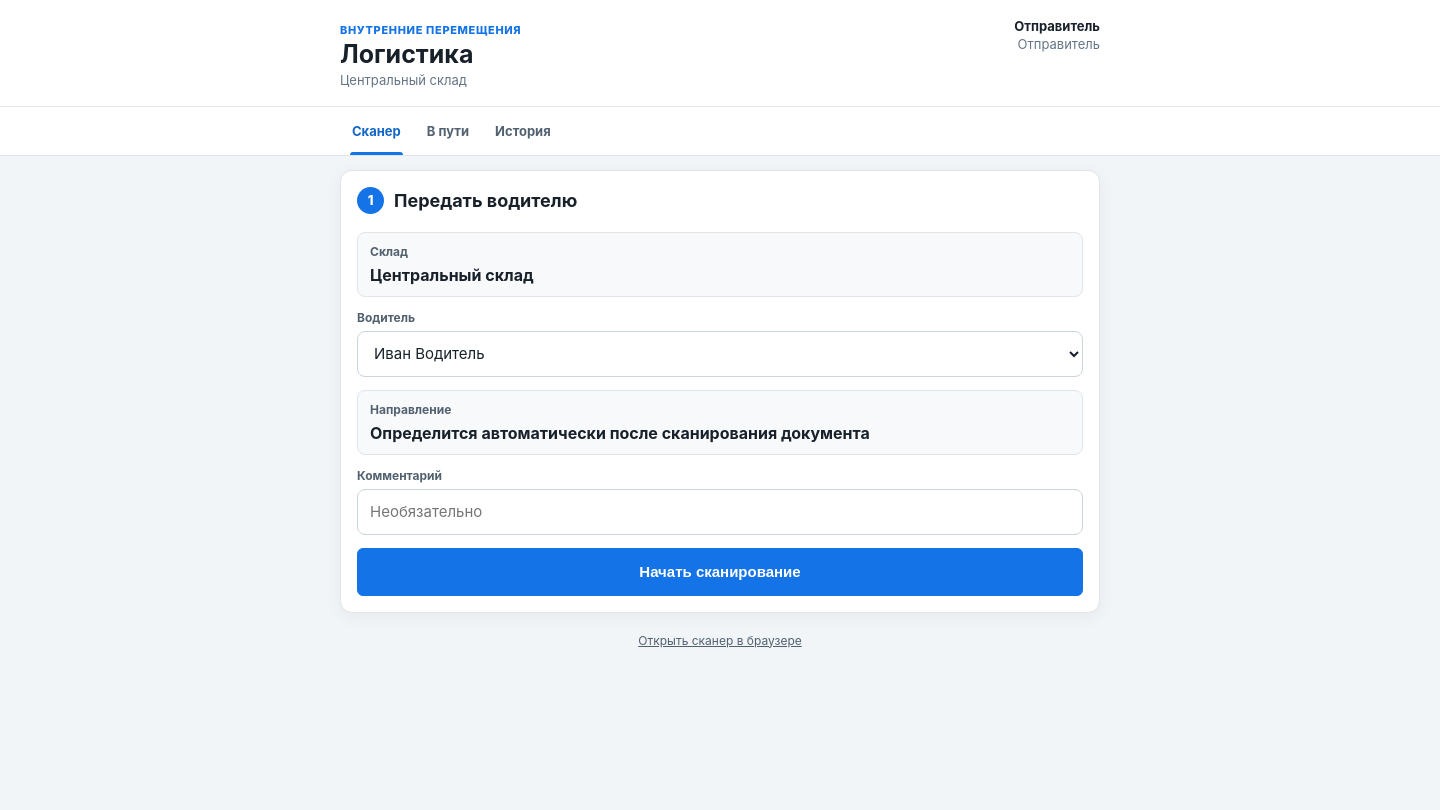
Scenario: LogisticsWorkspace › сохраняет пакет сканов после ошибки следующего кода
Step 1. Click the button "Начать сканирование" → [720, 572], box [357,548,1083,596]
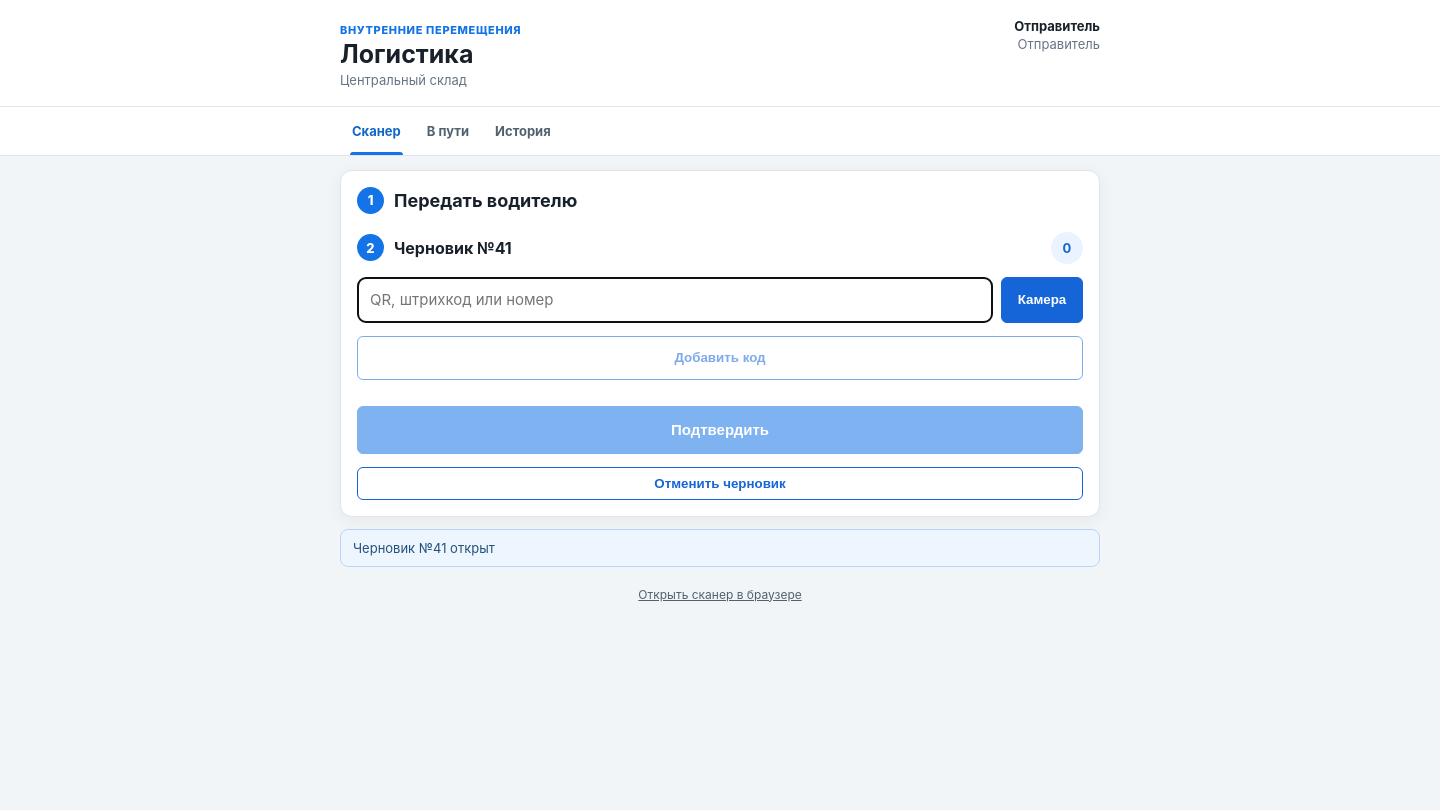
Step 2. Type "MMLOG1|rtu|51|216951" into the field with placeholder "QR, штрихкод или номер" → [675, 300], box [357,277,993,323]
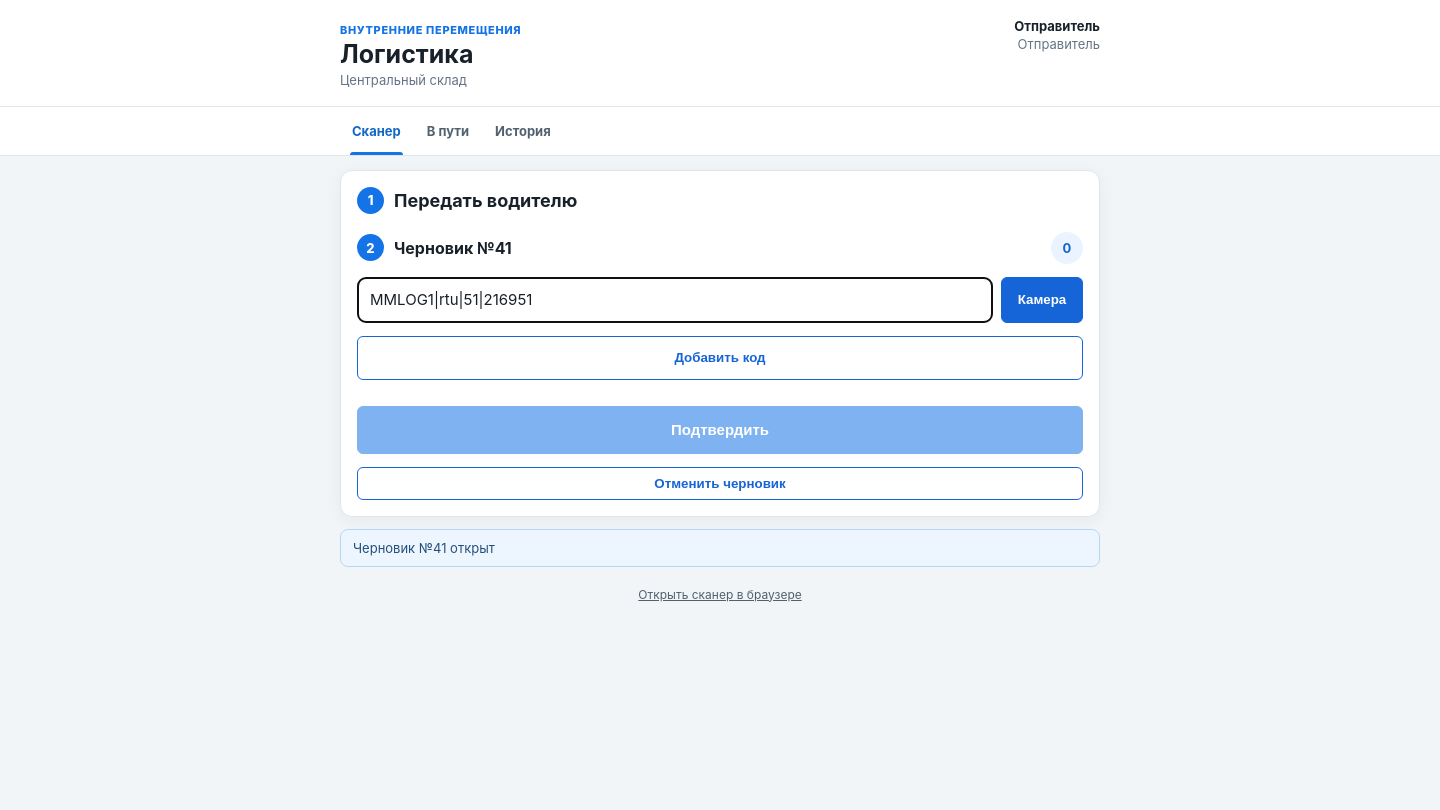
Step 3. Click the button "Добавить код" → [720, 358], box [357,336,1083,380]
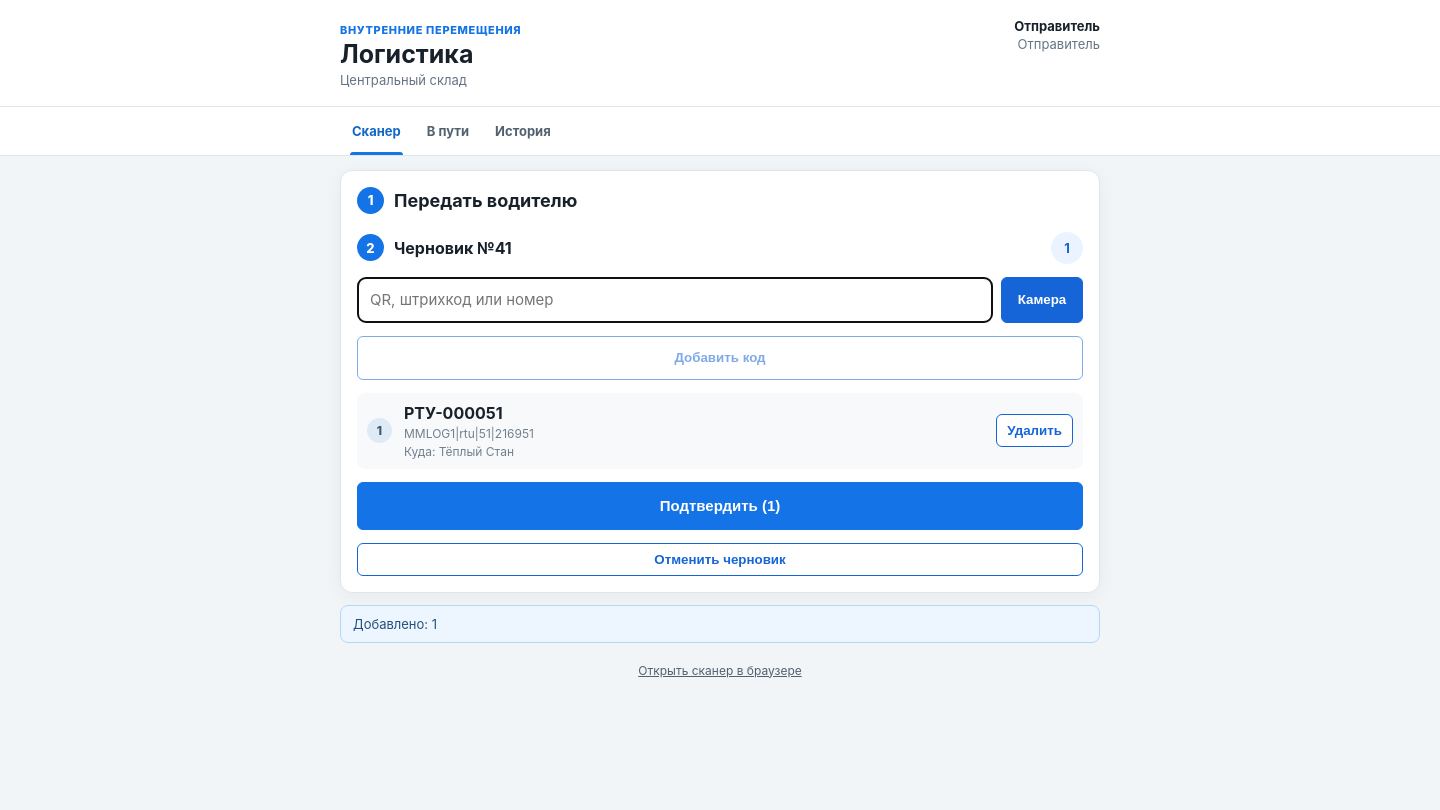
Result: the text "РТУ-000051" is shown at [404,403,503,423]
Result: the text "Куда: Тёплый Стан" is shown at [404,444,514,459]
Result: the button "Подтвердить (1)" is enabled at [357,482,1083,530]
Step 4. Type "BAD-CODE" into the field with placeholder "QR, штрихкод или номер" → [675, 300], box [357,277,993,323]
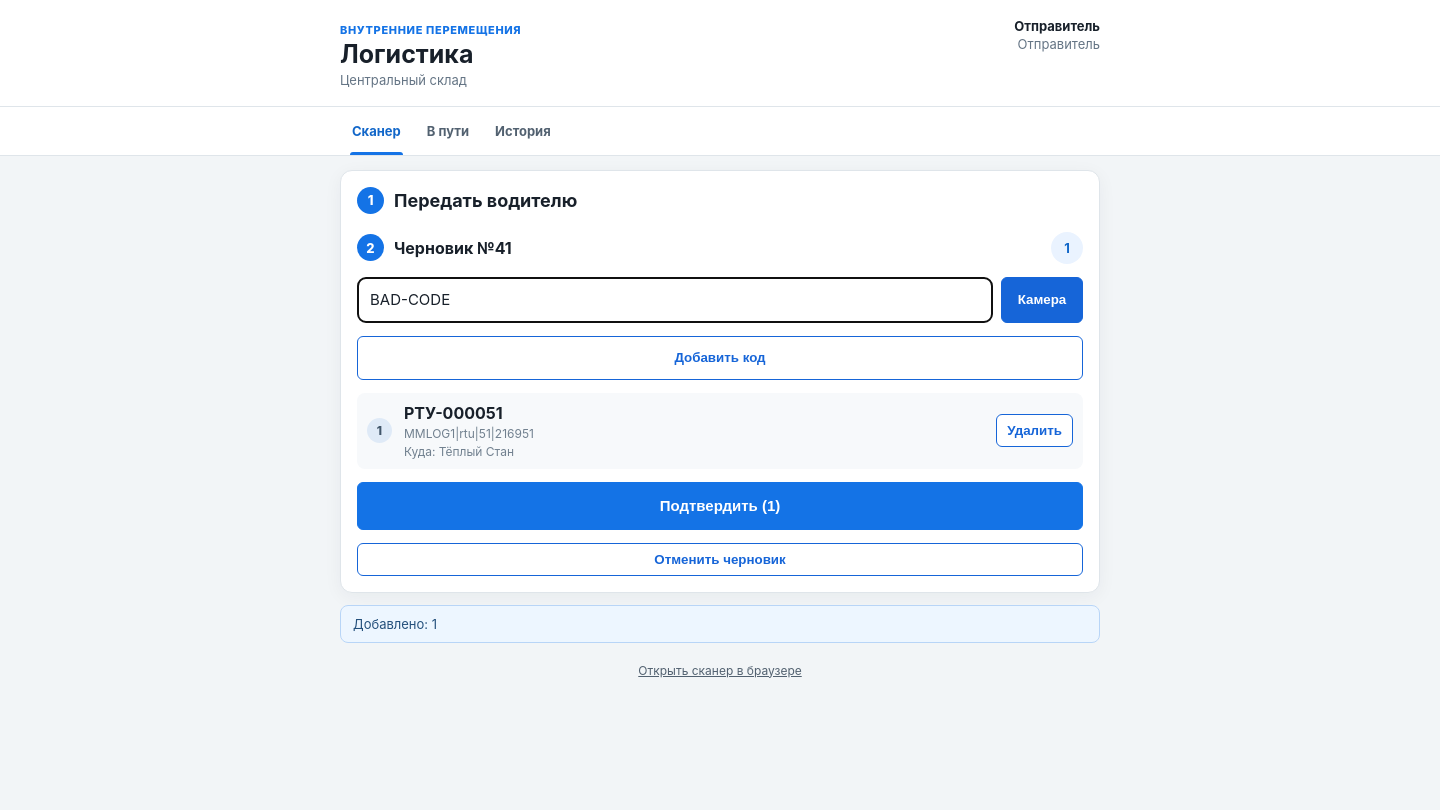
Step 5. Click the button "Добавить код" → [720, 358], box [357,336,1083,380]
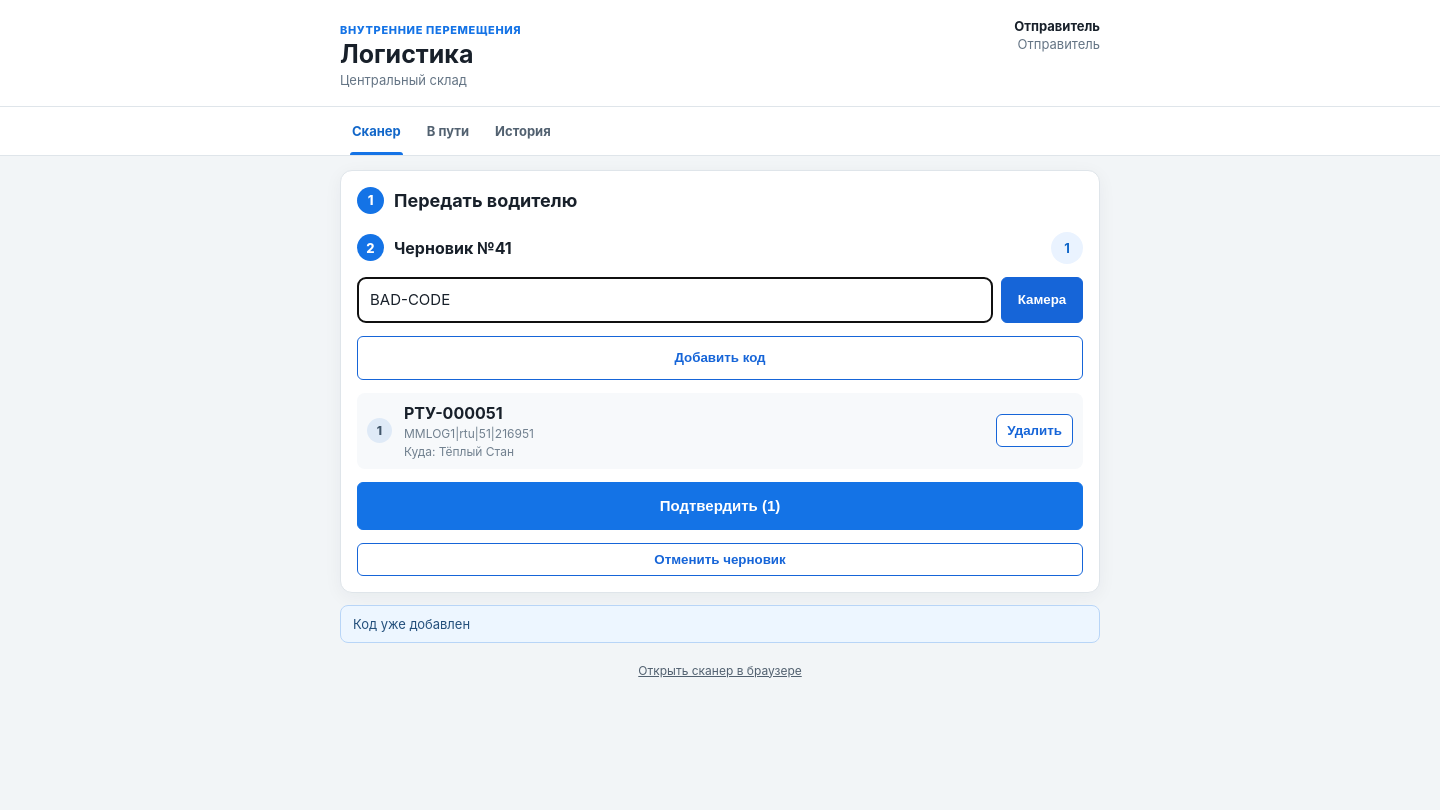
Result: the text "РТУ-000051" is shown at [404,403,503,423]
Result: the text "Код уже добавлен" is shown at [340,605,1100,643]
